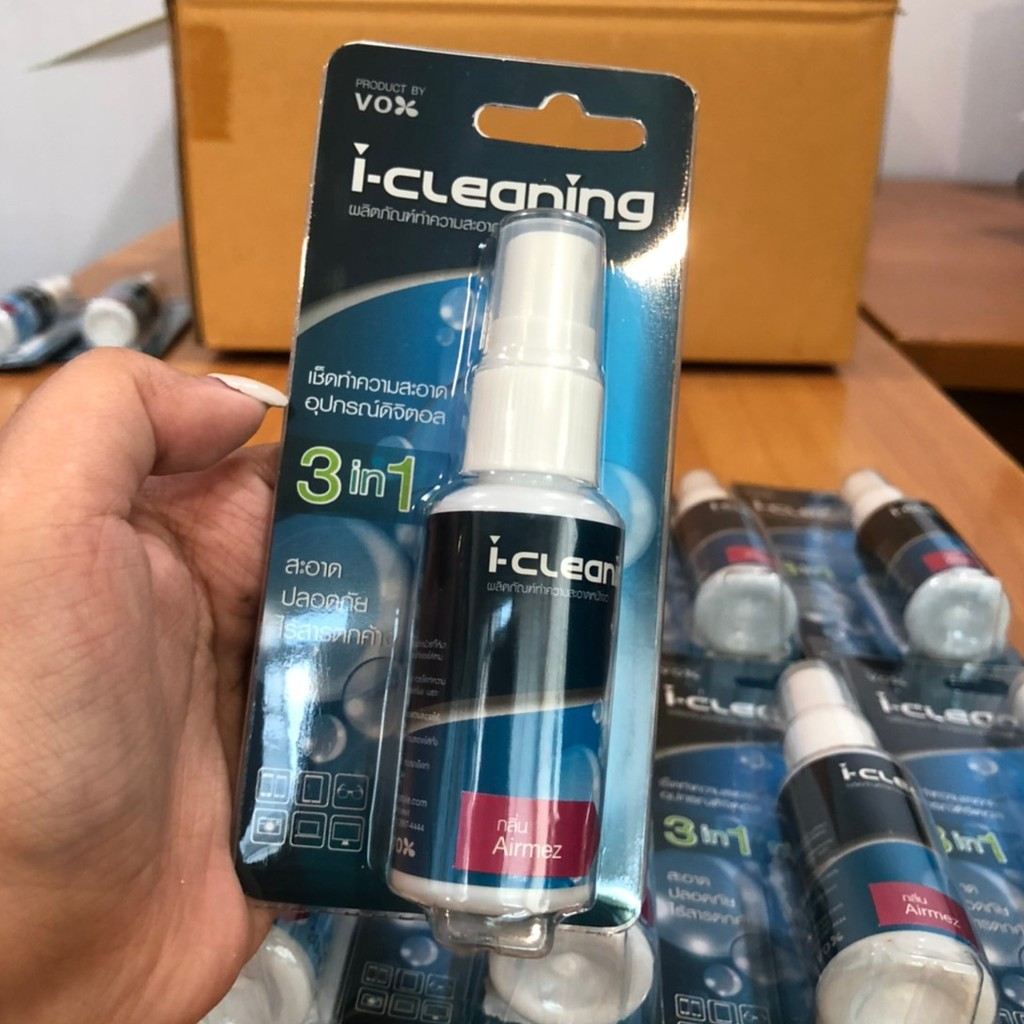Cleaning_solution: (371, 207, 636, 941)
